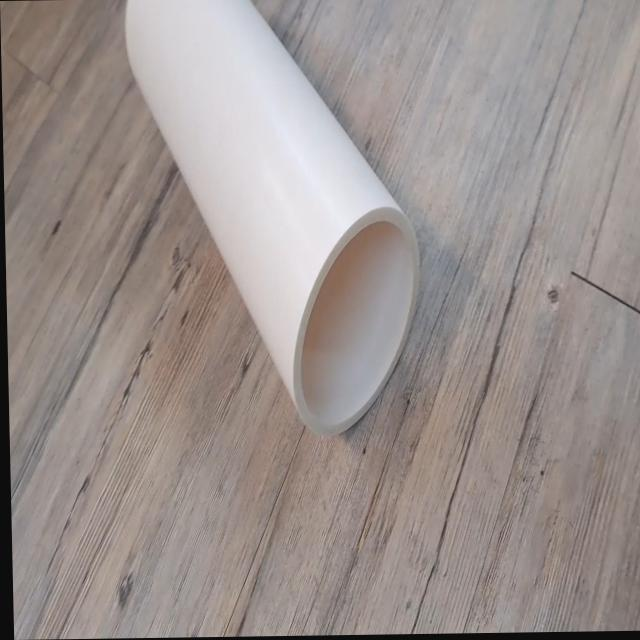CORAL: (113, 0, 440, 448)
